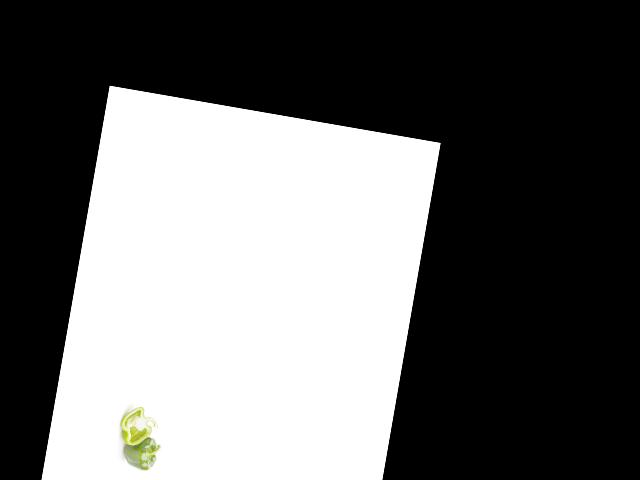bell_pepper: (118, 402, 162, 451)
